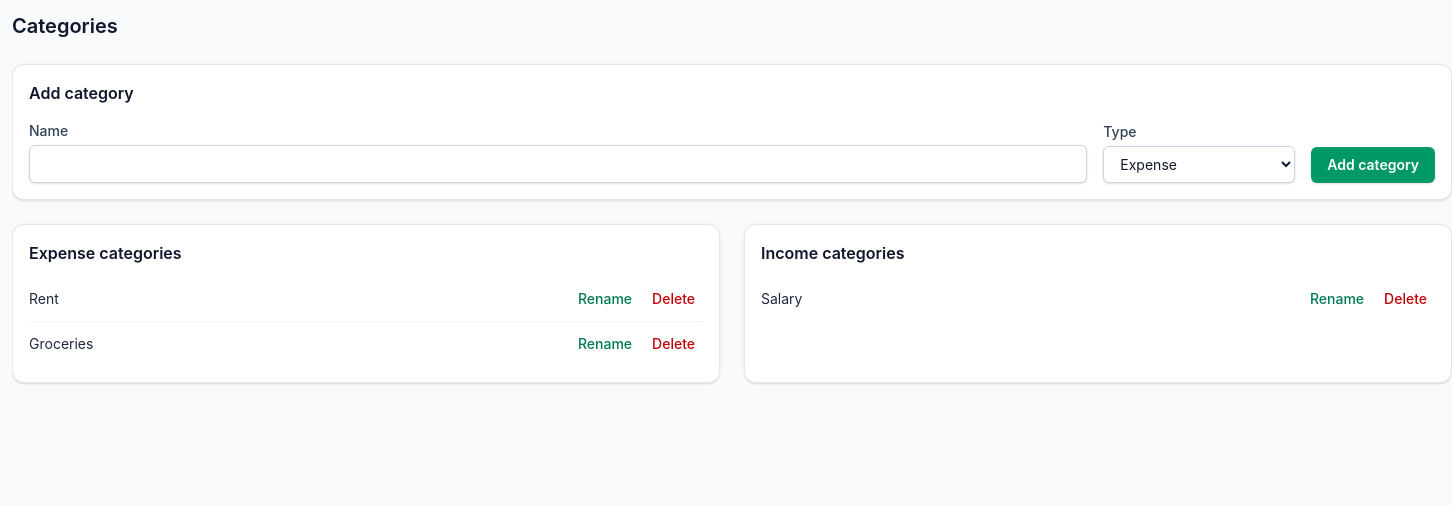
Test: CategoriesView › adds a category with a trimmed name and refreshes the list
Check: the text "Rent" is shown, box [29,289,59,309]
Type "  Books " into the field labelled "Name" at [558, 164], box [29,145,1087,183]
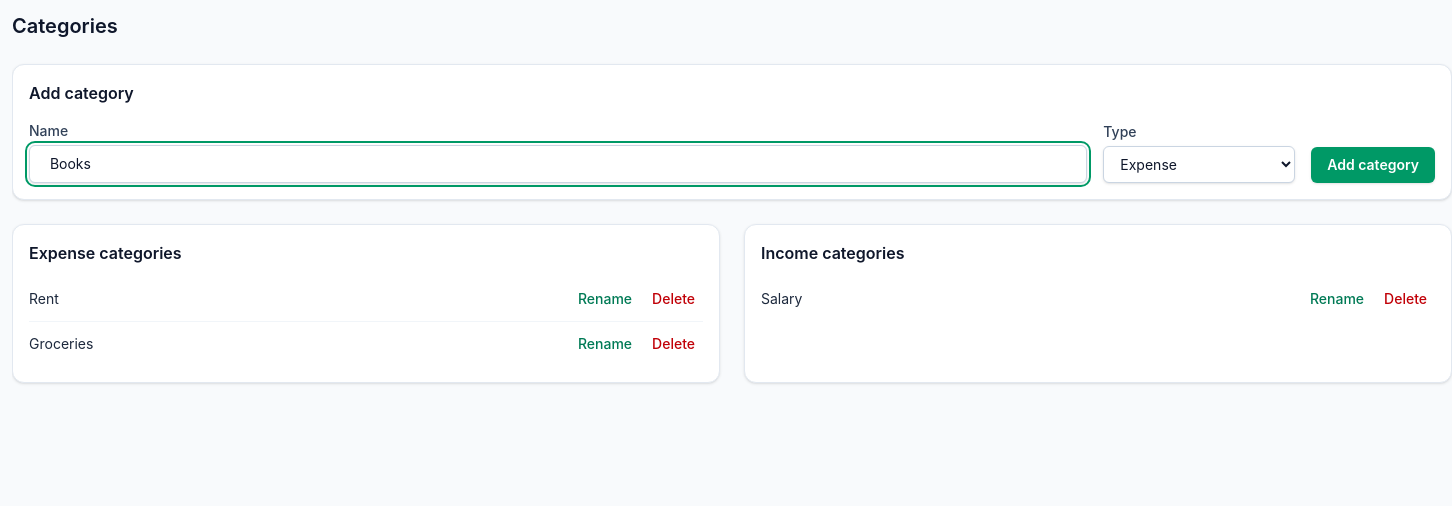
Click the button "Add category" at [1373, 165], box [1311,147,1435,183]
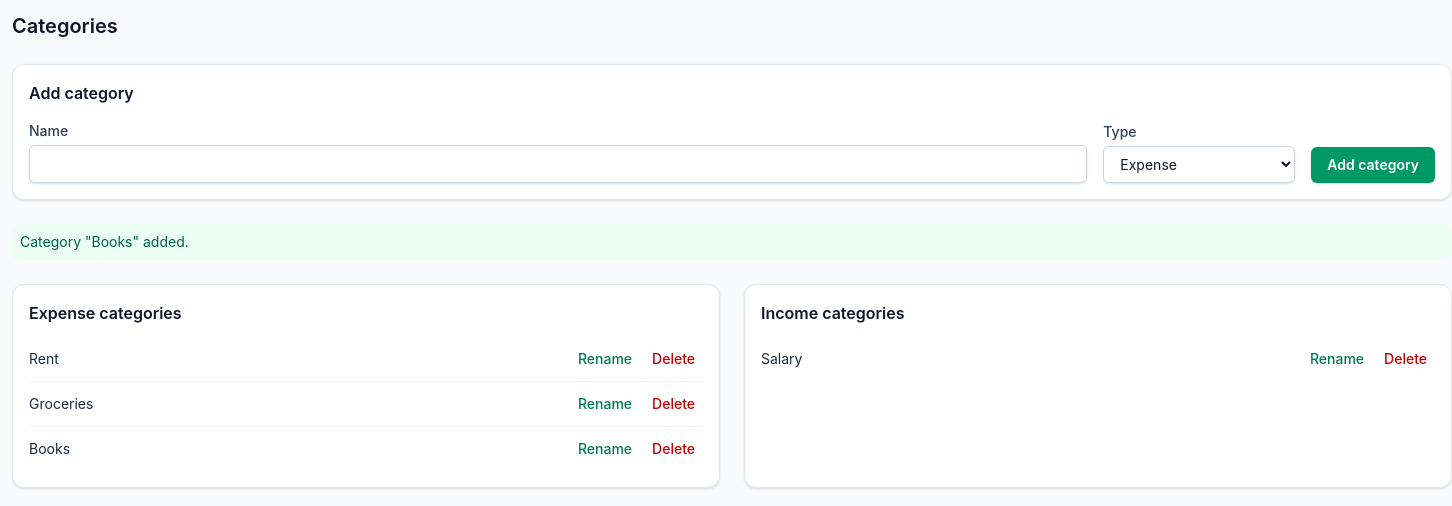
Check: the text "Category \"Books\" added." is shown, box [12,224,1451,260]
Check: the text "Books" is shown, box [29,439,70,459]
